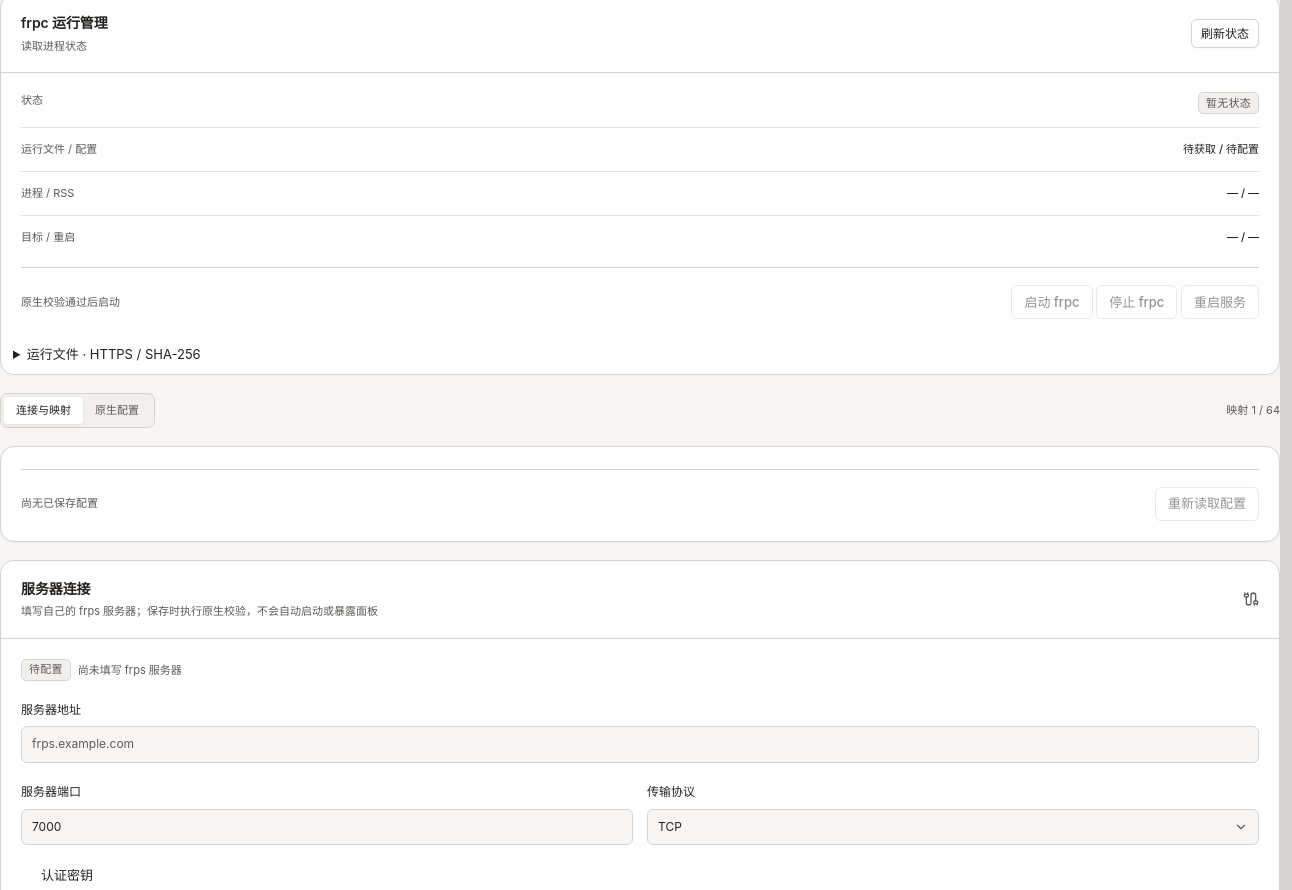
Scenario: frpc sticky edit generation › captures bootstrap edits when the first generation becomes available
The image size is (1292, 890).
Type "frps.example.test" into the field labelled "服务器地址".
click(640, 745); type("frps.example.test")  # box [21,726,1259,763]
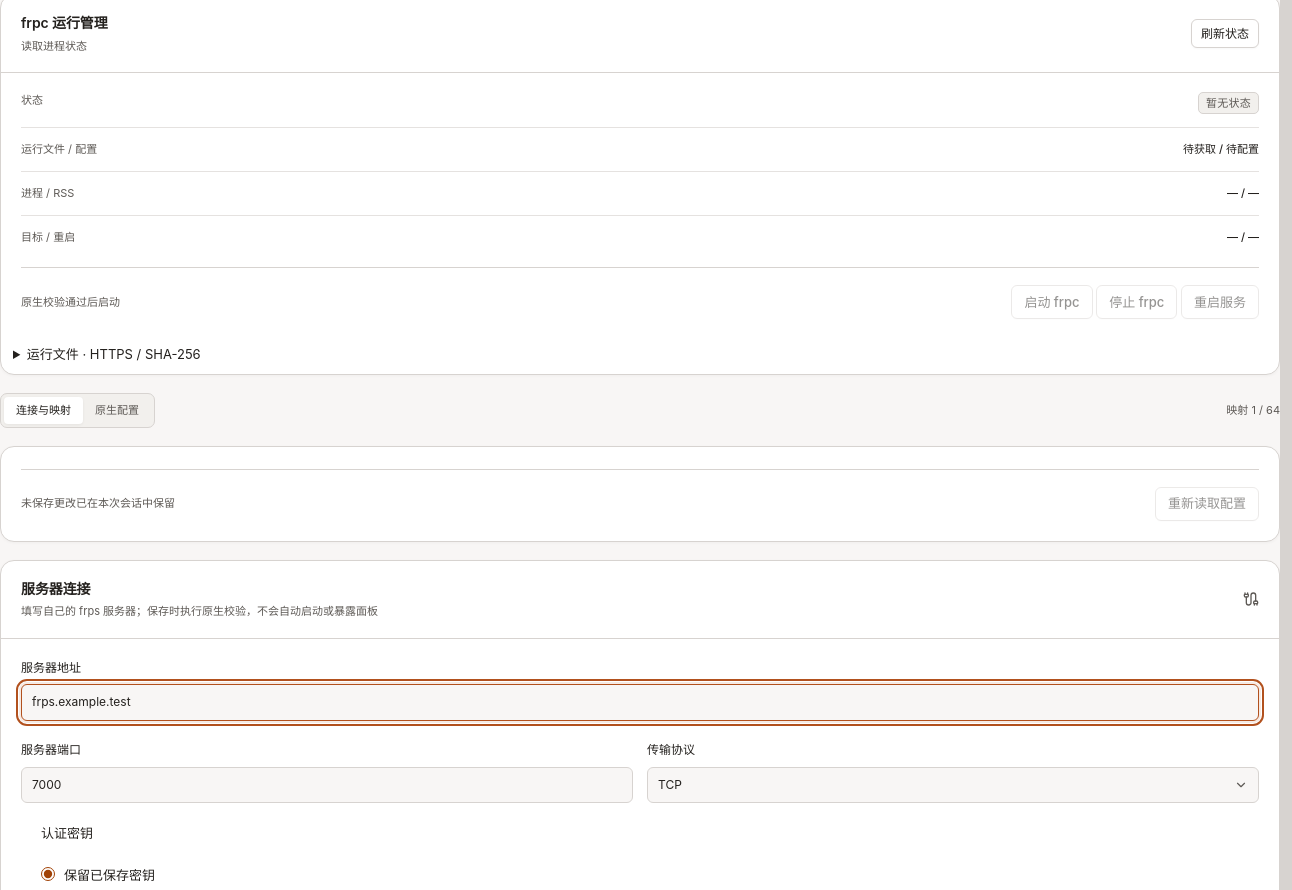
Click the button "刷新状态".
click(1225, 34)  # box [1191,19,1259,48]
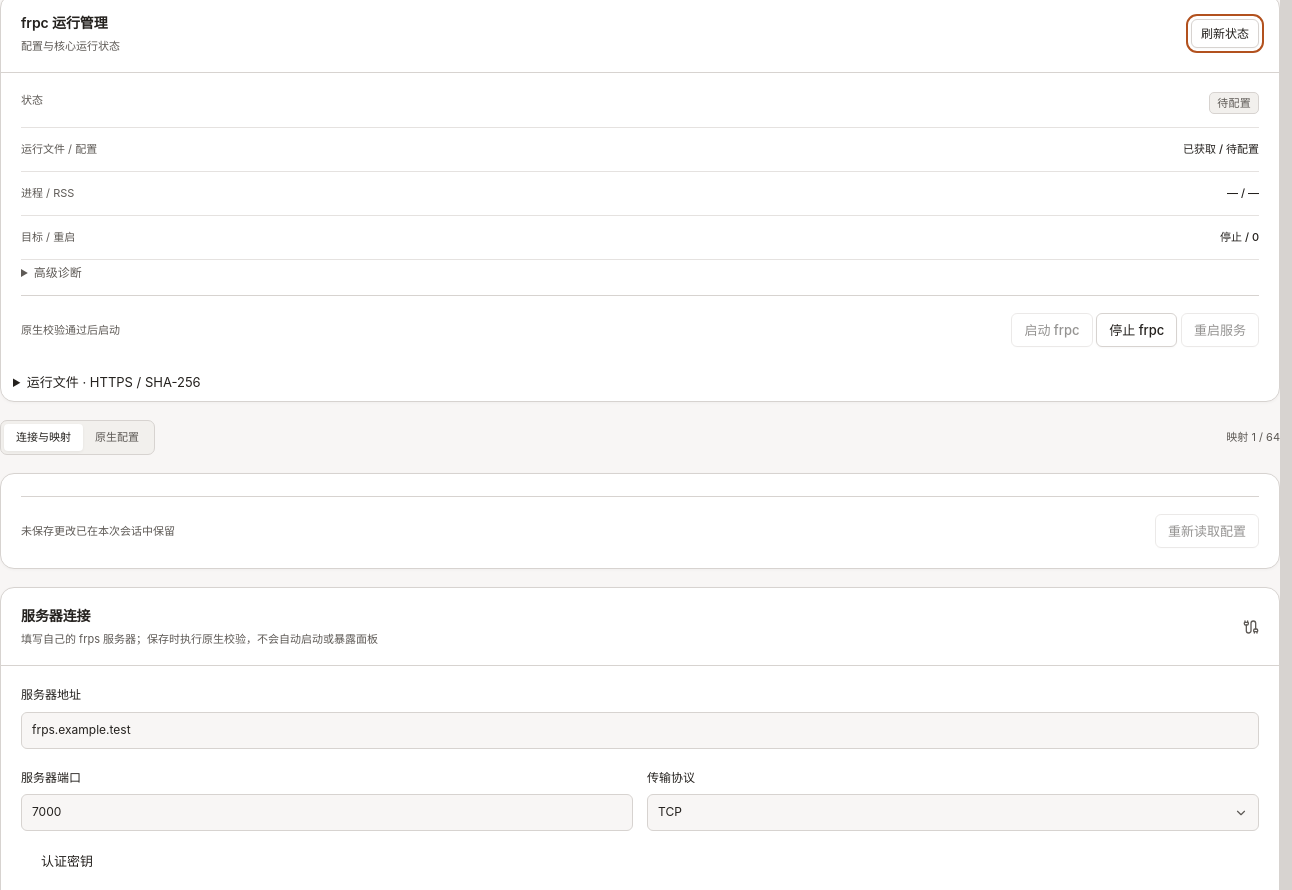
Click the button "刷新状态".
click(1225, 34)  # box [1191,19,1259,48]
(page scrolled)
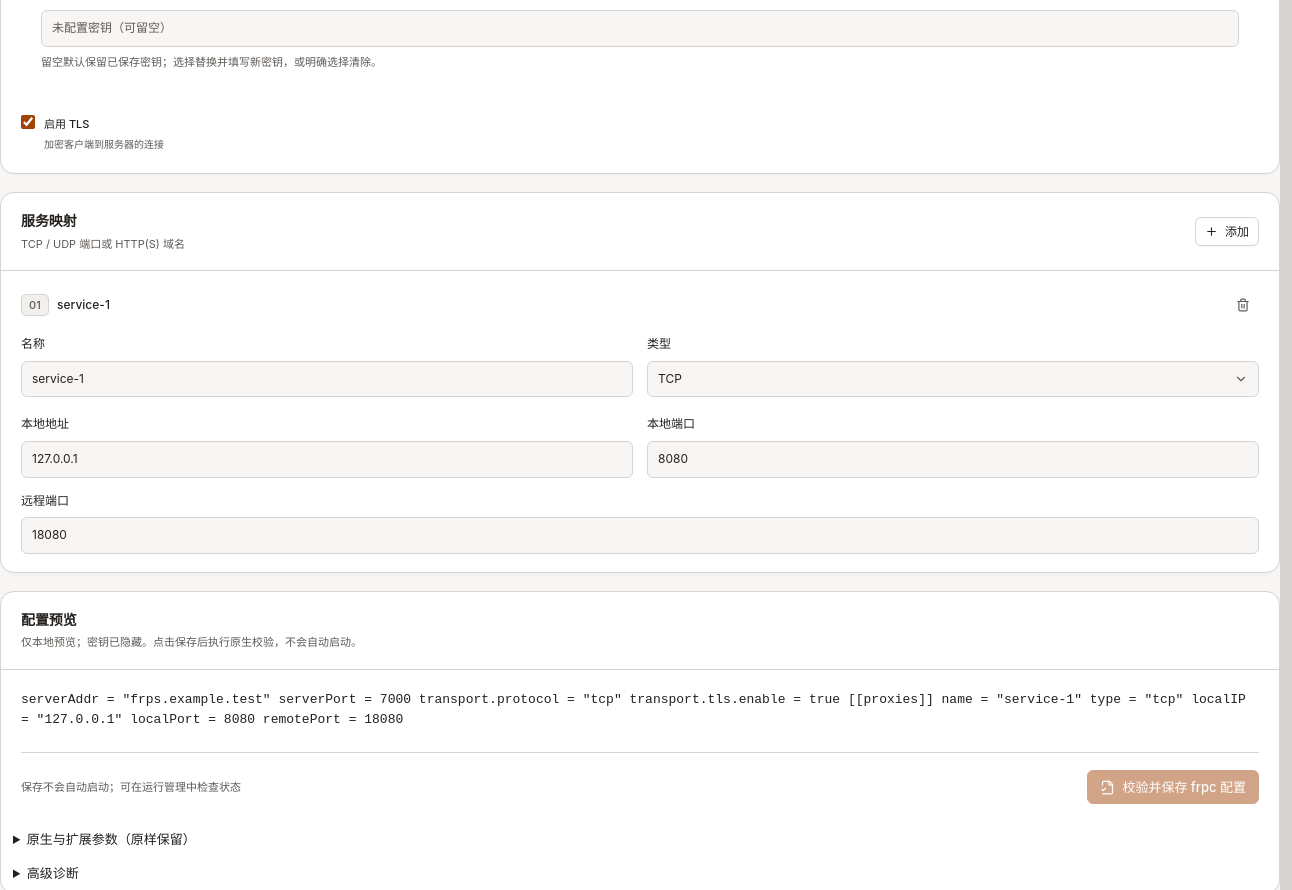
Result: the button "校验并保存 frpc 配置" is disabled at [1087,770,1259,804]
